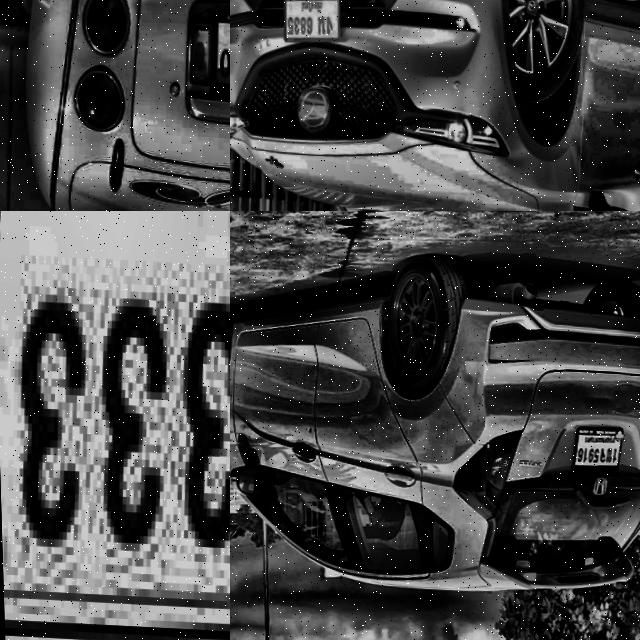license-plate: (0, 211, 230, 640), (272, 0, 347, 52), (569, 419, 625, 478), (204, 6, 230, 102)
